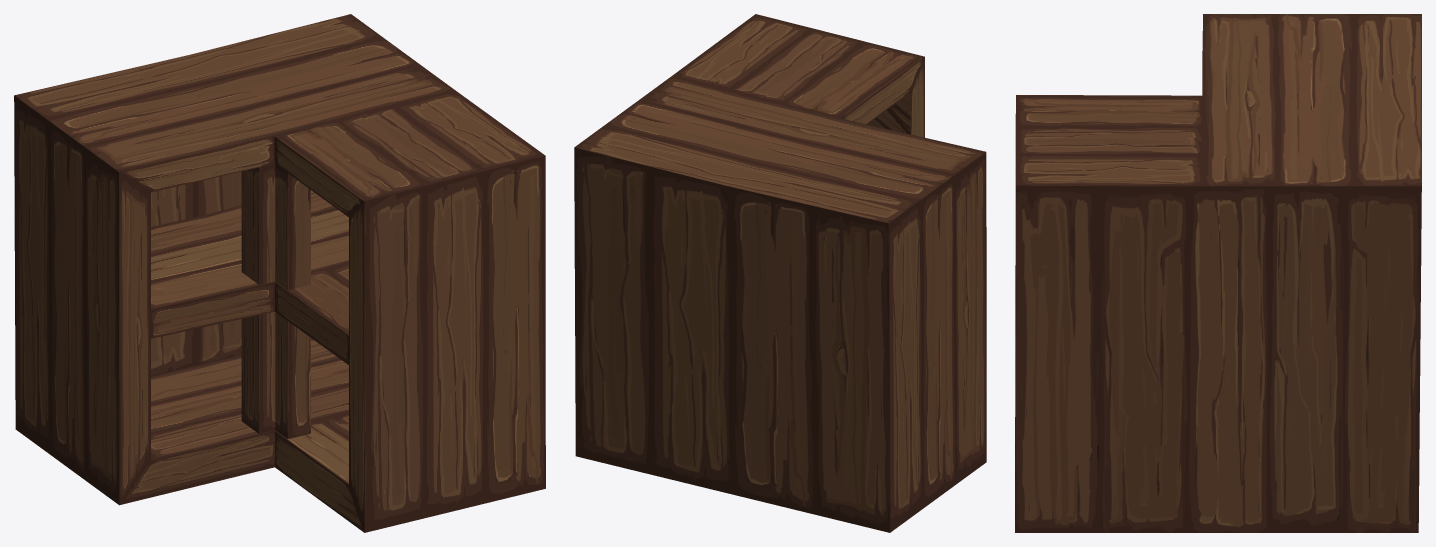
File: SM_PROP_cabinet_interior_07.fbx
3 renders of one model, left to right at view 1: azimuth 30°, elevation 25°; view 2: azimuth 150°, elevation 25°; view 3: azimuth 270°, elevation 25°, orthographic. The views are drawn at different scales.
Parts seen in each view (by area): view 1: SM_PROP_cabinet_interior_07; view 2: SM_PROP_cabinet_interior_07; view 3: SM_PROP_cabinet_interior_07.
Part boxes in pixels (bbox=[...]): SM_PROP_cabinet_interior_07: bbox=[14, 14, 545, 532]; SM_PROP_cabinet_interior_07: bbox=[574, 14, 986, 532]; SM_PROP_cabinet_interior_07: bbox=[1015, 14, 1421, 532].
Bounding box in the file's own units: 100 × 94.44 × 100.
